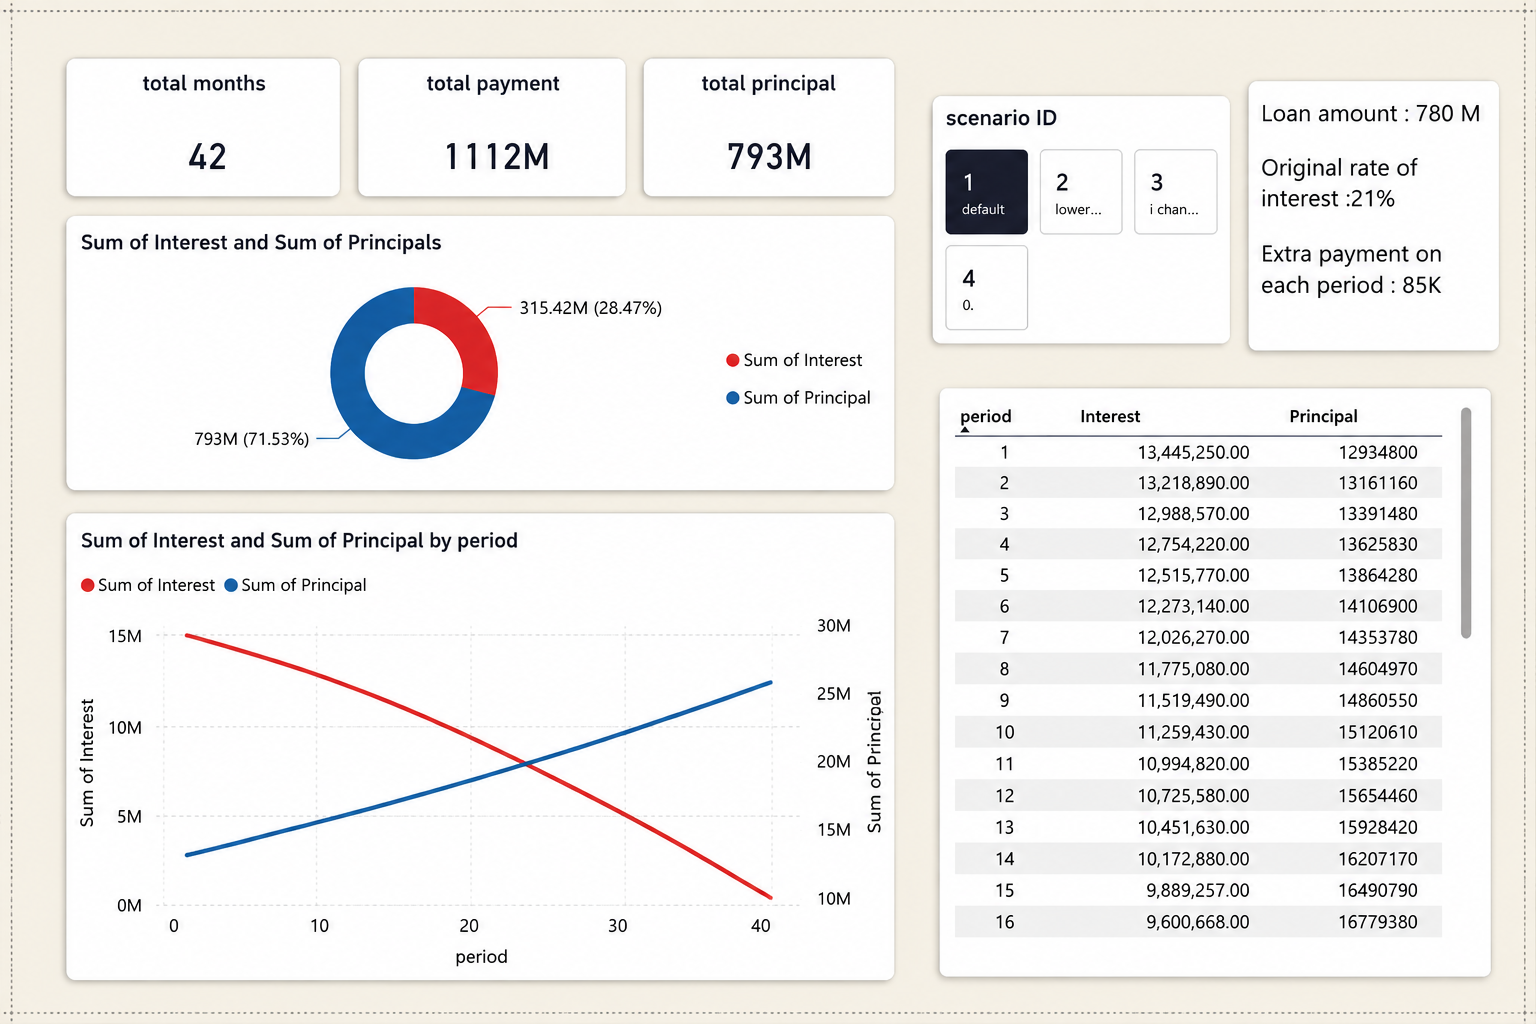

What the dashboard file says about the page in this screenshot:
{"tool":"powerbi","page":{"name":"Page 1","canvas":[1280,720],"ordinal":0},"visuals":[{"type":"card","title":"total payment","fields":{"Values":["Sum(facts.total payment)"]},"box":[307.1,42.9,227.1,105.7],"z":0},{"type":"advancedSlicerVisual","title":"scenario ID","fields":{"Values":["dim scenario.scenario id"],"Label":["Min(dim scenario.scenario name)"]},"box":[785.7,82.9,245.7,180],"z":1000},{"type":"lineChart","fields":{"Category":["facts.period"],"Y":["Sum(facts.Intrest)"],"Y2":["Sum(facts.Principal)"]},"box":[68.6,387.1,674.3,282.9],"z":2000},{"type":"tableEx","fields":{"Values":["facts.period","facts.Intrest","facts.Principal"]},"box":[798.6,310,422.9,360],"z":3000},{"type":"card","title":"total months","fields":{"Values":["CountNonNull(facts.period)"]},"box":[68.6,42.9,227.1,105.7],"z":4000},{"type":"donutChart","fields":{"Y":["Sum(facts.Intrest)","Sum(facts.Principal)"]},"box":[68.6,162.9,674.3,197.1],"z":5000},{"type":"card","title":"total principal","fields":{"Values":["Sum(facts.Principal)"]},"box":[544.3,42.9,198.6,105.7],"z":6000},{"type":"textbox","box":[1044.3,65.7,205.7,212.9],"z":7000}]}

Visuals, with their boxes on the page's 1280x720 design canvas (x1, y1, x2, y2). These are canvas units, not pixel positions in the 1536x1024 screenshot, which may show the page scaled, cropped or inside an application window:
"total payment" card: pyautogui.locateOnScreen(307, 43, 534, 149)
"scenario ID" advancedSlicerVisual: pyautogui.locateOnScreen(786, 83, 1031, 263)
lineChart - facts.period x Sum(facts.Intrest): pyautogui.locateOnScreen(69, 387, 743, 670)
tableEx - facts.period x facts.Intrest: pyautogui.locateOnScreen(799, 310, 1222, 670)
"total months" card: pyautogui.locateOnScreen(69, 43, 296, 149)
donutChart - Sum(facts.Intrest) x Sum(facts.Principal): pyautogui.locateOnScreen(69, 163, 743, 360)
"total principal" card: pyautogui.locateOnScreen(544, 43, 743, 149)
textbox: pyautogui.locateOnScreen(1044, 66, 1250, 279)
